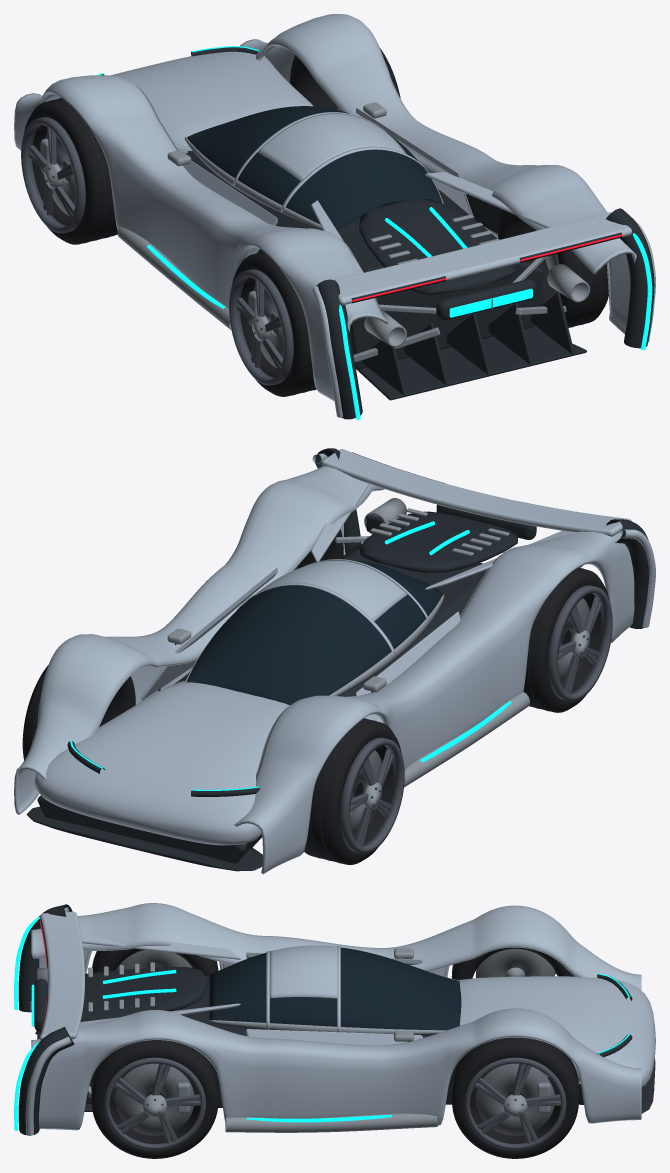
File: Cloudline_C05.fbx
The picture shows the model from 3 angles, top to bottom: view 1: azimuth 30°, elevation 25°; view 2: azimuth 150°, elevation 25°; view 3: azimuth 270°, elevation 25°; orthographic projection. The views are drawn at different scales.
Visible parts, largest first — view 1: Continuous silver haunch -1, Continuous silver haunch 1, Cabin continuous glazing, Low silver nose, Swept full-width rear bridge, Low carbon chassis, Engine cover, Front tire -1, Cabin flush roof, Recessed diffuser floor, Rear tire -1, Rear tire 1 (+26 smaller); view 2: Continuous silver haunch -1, Low silver nose, Continuous silver haunch 1, Cabin continuous glazing, Swept full-width rear bridge, Engine cover, Front tire -1, Low carbon chassis, Rear tire -1, Cabin flush roof, Front aero lip, Rear rim lip -1 (+16 smaller); view 3: Continuous silver haunch 1, Continuous silver haunch -1, Cabin continuous glazing, Low silver nose, Front tire 1, Rear tire 1, Engine cover, Swept full-width rear bridge, Cabin flush roof, Lower silver sill 1, Front brake rotor 1, Rear brake rotor 1 (+21 smaller).
Boxes of the visible parts, x1,y1,x2,y2 form: Continuous silver haunch -1: (14, 75, 388, 401); Continuous silver haunch 1: (240, 14, 636, 333); Cabin continuous glazing: (185, 106, 441, 230); Low silver nose: (45, 51, 313, 153); Swept full-width rear bridge: (334, 212, 631, 304); Low carbon chassis: (186, 151, 543, 369); Engine cover: (359, 198, 517, 294); Front tire -1: (24, 98, 117, 244); Cabin flush roof: (258, 113, 406, 180); Recessed diffuser floor: (356, 326, 586, 400); Rear tire -1: (232, 251, 315, 396); Rear tire 1: (498, 209, 608, 327); Continuous silver haunch -1: (234, 531, 634, 874); Low silver nose: (34, 681, 289, 845); Continuous silver haunch 1: (14, 466, 384, 814); Cabin continuous glazing: (186, 560, 444, 705); Swept full-width rear bridge: (321, 449, 631, 536); Engine cover: (359, 511, 517, 572); Front tire -1: (304, 718, 401, 864); Low carbon chassis: (37, 544, 486, 863); Rear tire -1: (523, 567, 609, 712); Cabin flush roof: (257, 560, 407, 621); Front aero lip: (26, 806, 262, 871); Rear rim lip -1: (548, 585, 612, 701); Continuous silver haunch 1: (31, 1008, 641, 1130); Continuous silver haunch -1: (31, 903, 641, 990); Cabin continuous glazing: (209, 947, 461, 1034); Low silver nose: (458, 976, 655, 1087); Front tire 1: (452, 1037, 578, 1158); Rear tire 1: (91, 1040, 218, 1158); Engine cover: (80, 966, 209, 1021); Swept full-width rear bridge: (39, 911, 84, 1040); Cabin flush roof: (270, 945, 337, 998); Lower silver sill 1: (225, 1113, 437, 1132); Front brake rotor 1: (475, 1063, 554, 1135); Rear brake rotor 1: (115, 1063, 194, 1135).
Bounding box in the file's own units: 265 × 126 × 518.
